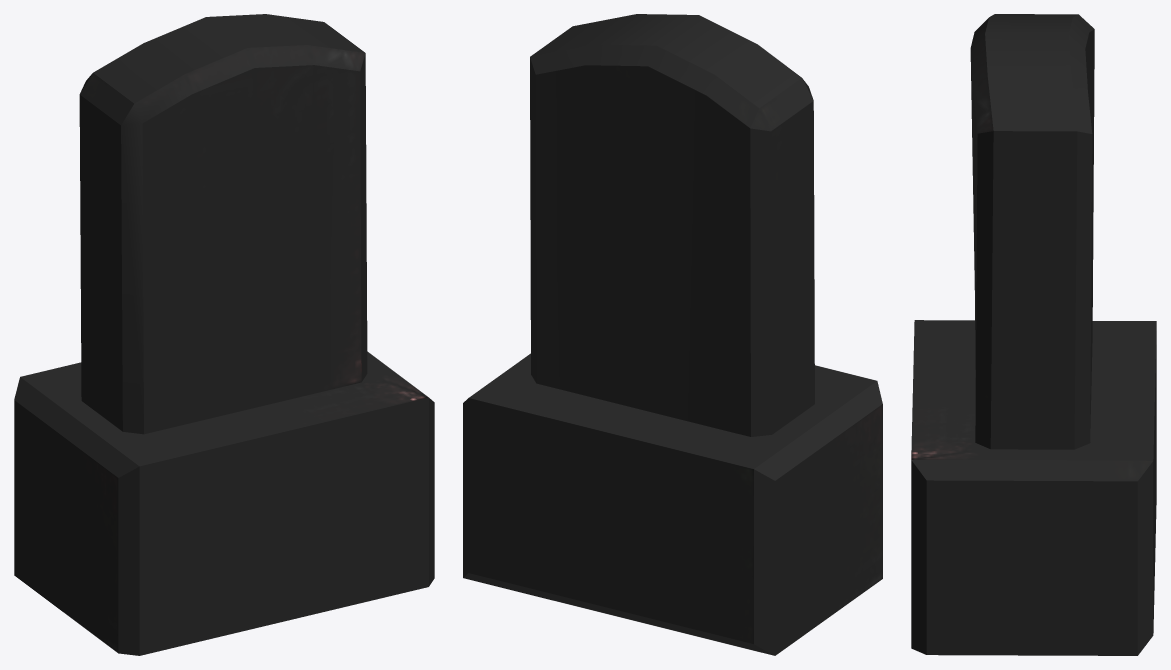
File: Lapide.fbx
3 views of the same model, side by side, from view 1: azimuth 30°, elevation 25°; view 2: azimuth 150°, elevation 25°; view 3: azimuth 270°, elevation 25° (orthographic).
Parts seen in each view (by area): view 1: Lapide; view 2: Lapide; view 3: Lapide.
Part boxes in pixels (box(x1,y1,x2,y2)): Lapide: box(14, 14, 434, 655); Lapide: box(463, 14, 882, 655); Lapide: box(911, 14, 1156, 655).
Size of the model in its own units: 62.48 by 103 by 42.17.
